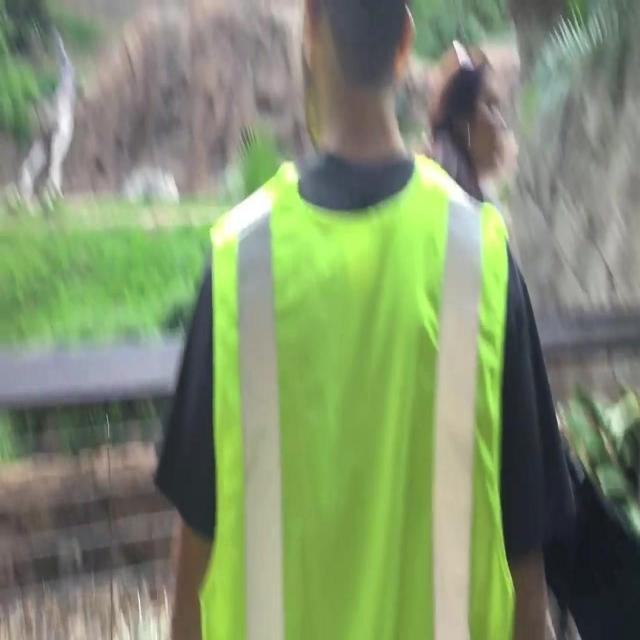Reflective-Jacket: (193, 159, 525, 625)
